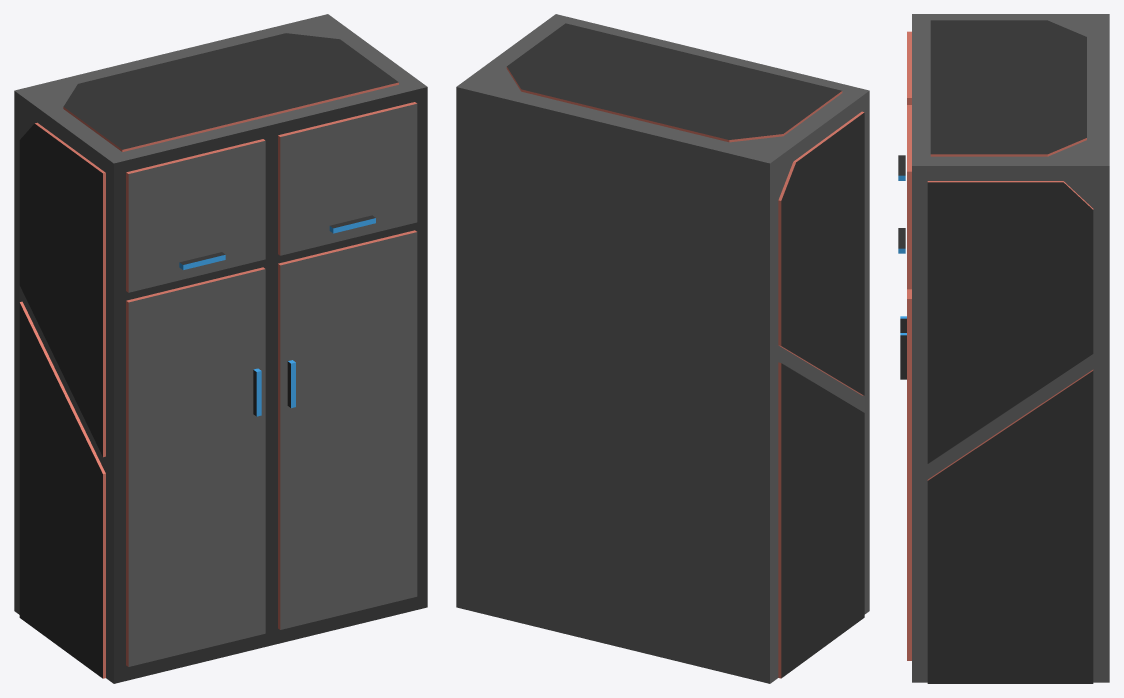
File: Cabinet_3.fbx
3 views of the same model, side by side, from view 1: azimuth 30°, elevation 25°; view 2: azimuth 150°, elevation 25°; view 3: azimuth 270°, elevation 25° (orthographic).
Parts seen in each view (by area): view 1: Cabinet_3; view 2: Cabinet_3; view 3: Cabinet_3.
Part boxes in pixels (x1,y1,x2,y2): Cabinet_3: (14,14,427,683); Cabinet_3: (456,14,869,683); Cabinet_3: (898,14,1109,683).
Bounding box in the file's own units: 175 × 273 × 101.
